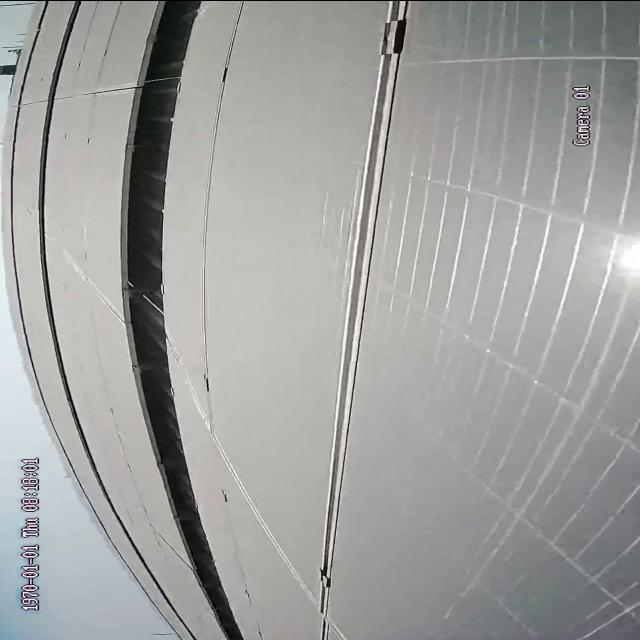interior panel: (317, 2, 408, 628)
outher panel: (118, 1, 240, 638)
